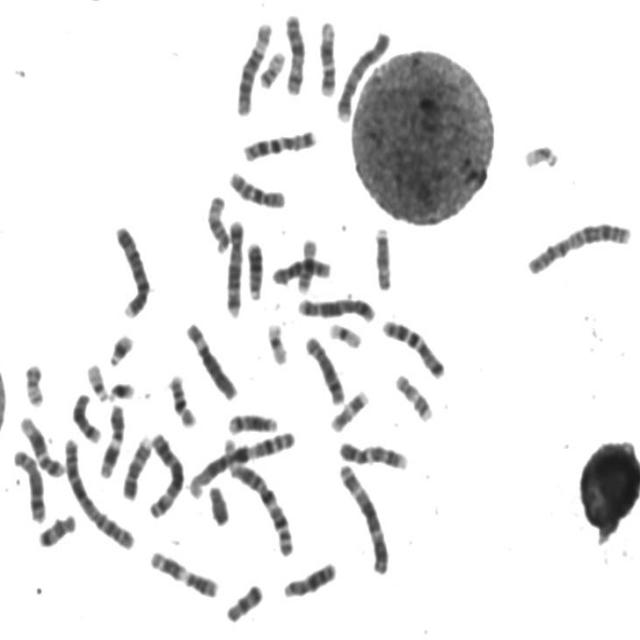A1: (185, 424, 298, 501), (221, 446, 296, 558)
A2: (59, 432, 136, 552), (522, 215, 634, 276)
A3: (334, 456, 392, 576), (144, 426, 186, 520)
B4: (332, 25, 392, 123), (110, 219, 151, 320)
B5: (293, 290, 377, 324), (221, 212, 246, 318)
C10: (224, 164, 288, 211), (267, 250, 334, 287)
C11: (144, 544, 222, 600), (95, 398, 127, 481)
C12: (14, 409, 66, 479), (314, 14, 338, 98)
C6: (181, 315, 240, 402), (231, 15, 274, 118)
C7: (377, 313, 448, 380), (238, 122, 319, 163)
C8: (301, 329, 347, 407), (8, 444, 47, 524)
C9: (334, 434, 410, 472), (118, 429, 153, 502)
D13: (278, 556, 338, 599), (242, 236, 266, 301)
D14: (67, 386, 103, 445), (222, 406, 280, 436)
D15: (203, 189, 232, 255), (370, 220, 394, 293)
E16: (164, 368, 199, 430), (293, 232, 319, 295)
E17: (390, 367, 435, 423), (326, 383, 371, 434)
E18: (222, 577, 264, 624), (34, 508, 78, 550)
F19: (262, 315, 290, 366), (324, 316, 364, 350)
F20: (19, 356, 47, 409), (255, 44, 287, 90)
G21: (104, 326, 135, 368), (104, 374, 137, 402)
G22: (520, 139, 559, 174), (82, 356, 110, 403)
X: (280, 8, 308, 97)
Y: (204, 478, 232, 528)
